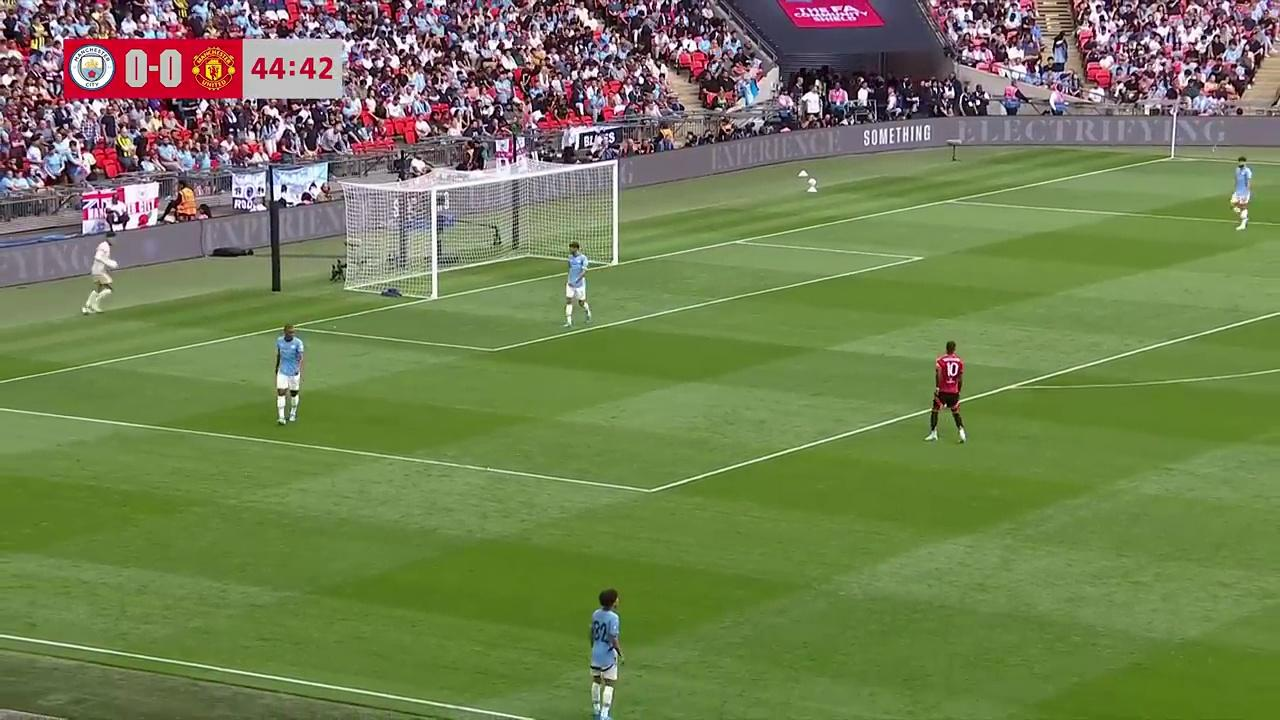player: (589, 588, 624, 717), (925, 339, 967, 444), (275, 324, 305, 424), (79, 235, 114, 318), (564, 243, 592, 326), (1231, 157, 1253, 229)
